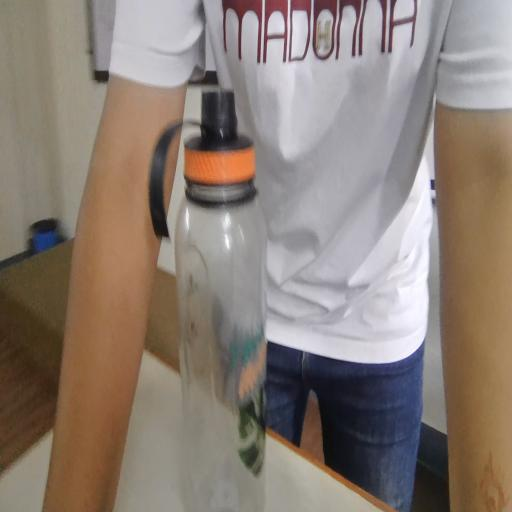Bottle: (173, 96, 274, 512)
